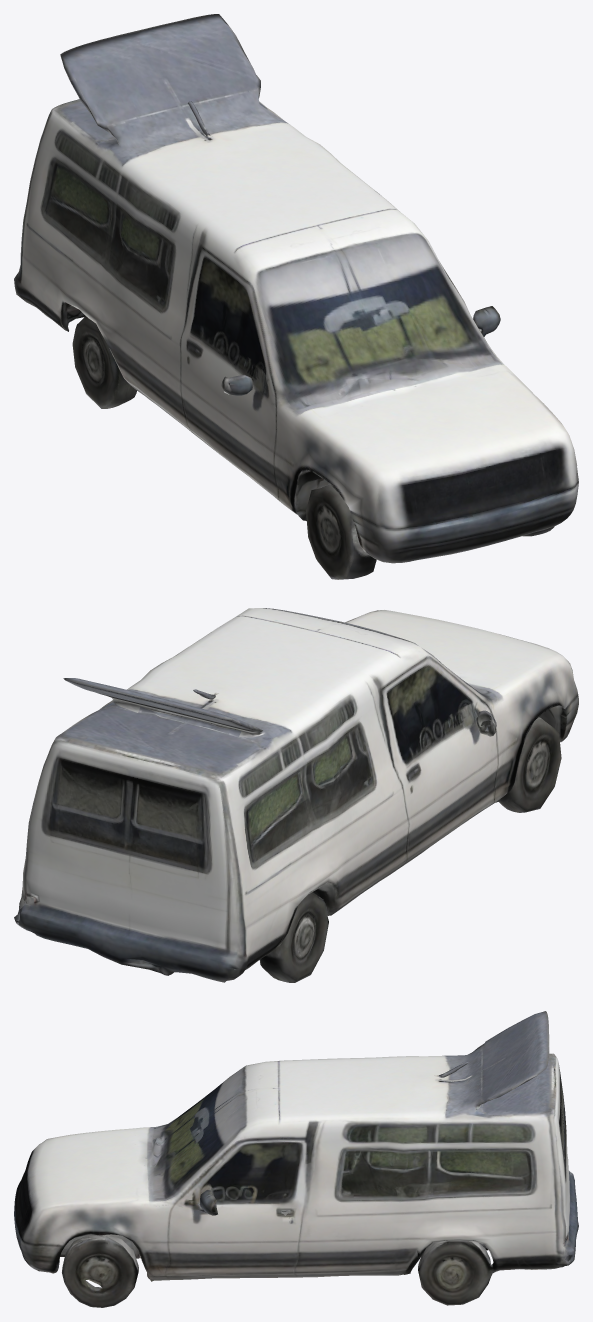
File: Car_1223164255_texture.glb
The picture shows the model from 3 angles, top to bottom: view 1: azimuth 30°, elevation 25°; view 2: azimuth 150°, elevation 25°; view 3: azimuth 270°, elevation 25°; orthographic projection. The views are drawn at different scales.
Bounding box in the file's own units: 0.863 × 0.9092 × 2.
1 material, 1 textured.
